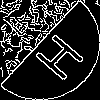H: (25, 25, 87, 83)
